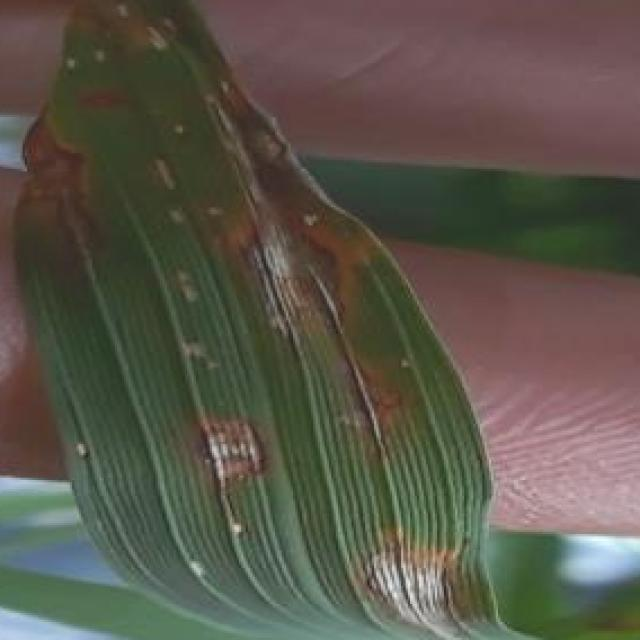Leaf_Blast: (180, 146, 352, 354), (9, 115, 144, 261), (331, 525, 487, 640), (185, 390, 297, 500), (320, 358, 414, 458)
